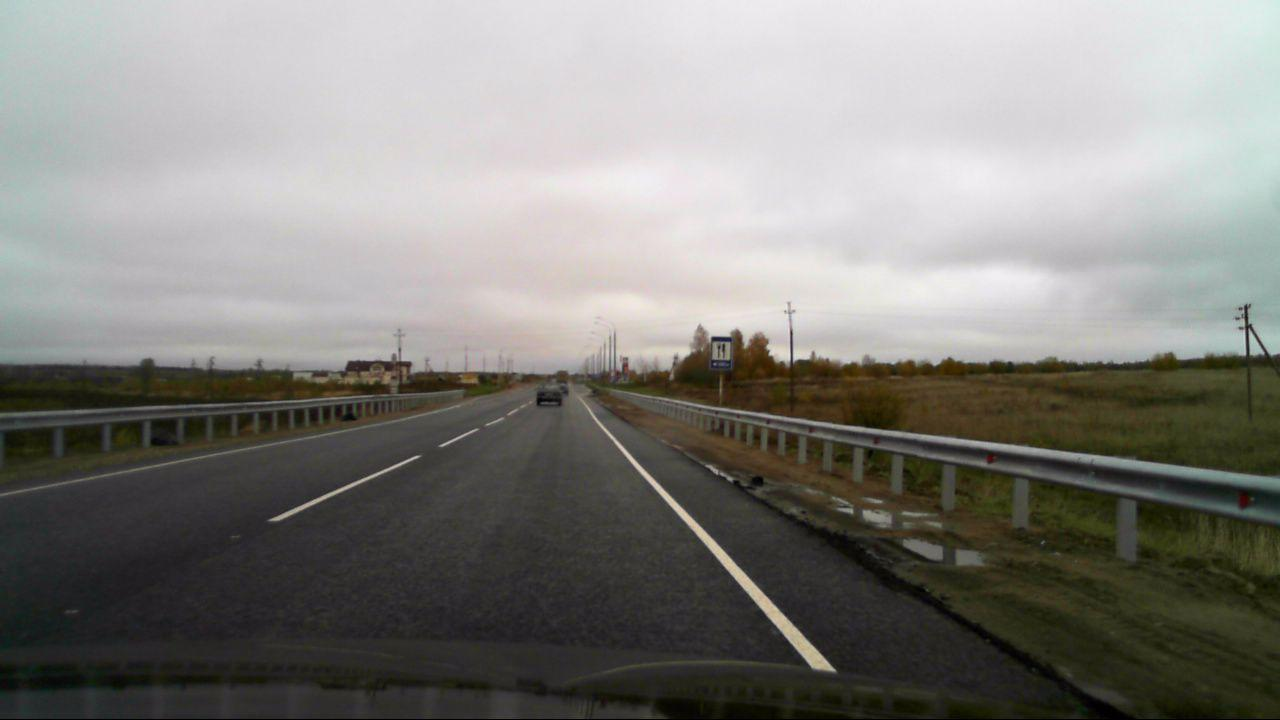7_7: (710, 336, 733, 370)
